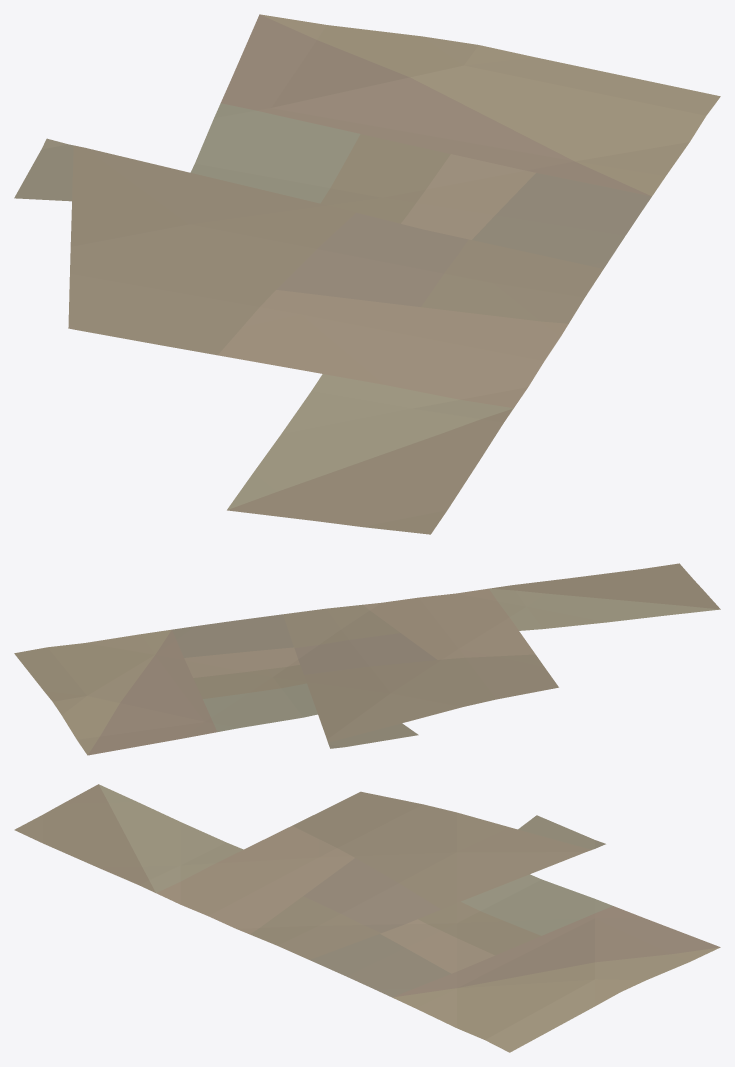
File: farm_2_10_soil.glb
3 views of the same model, one above another, from view 1: azimuth 30°, elevation 25°; view 2: azimuth 150°, elevation 25°; view 3: azimuth 270°, elevation 25° (orthographic). The views are drawn at different scales.
Parts seen in each view (by area): view 1: geometry_0; view 2: geometry_0; view 3: geometry_0.
Part boxes in pixels (x1,y1,x2,y2): geometry_0: (14,14,720,534); geometry_0: (14,563,720,755); geometry_0: (14,784,720,1052).
Size of the model in its own units: 343 by 19.73 by 410.
